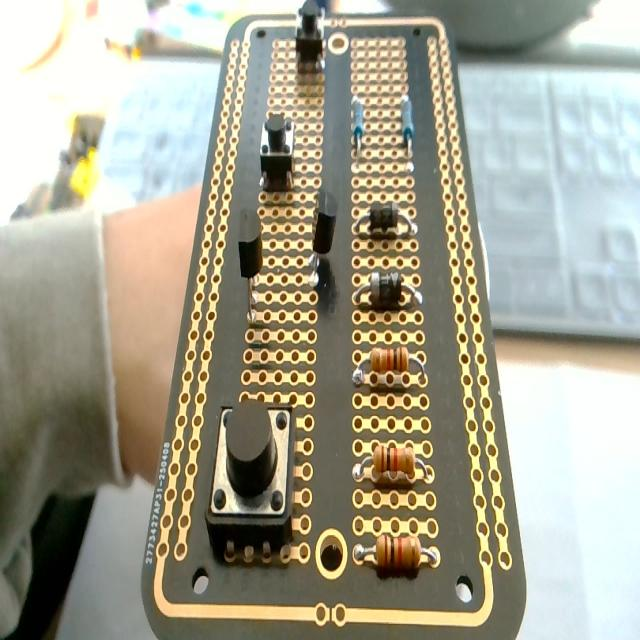diode: (353, 272, 422, 311), (354, 202, 416, 238), (400, 93, 414, 157), (351, 96, 365, 156)
resistor: (354, 349, 426, 390), (354, 446, 428, 484), (355, 537, 434, 571), (353, 248, 420, 273)
switch: (204, 399, 296, 554), (259, 113, 295, 191), (294, 1, 325, 73)
transistor: (307, 189, 339, 285), (238, 208, 262, 322)
